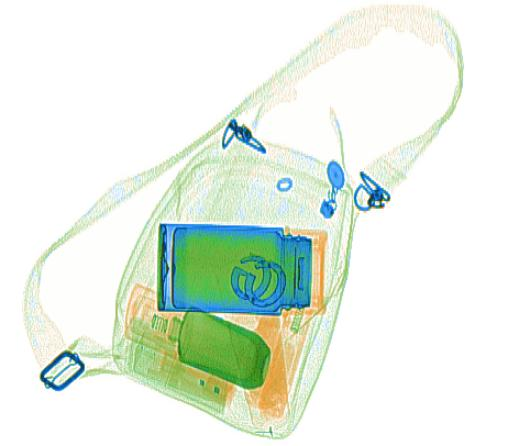plasticBottleWithaNozzle: (256, 294, 317, 418)
